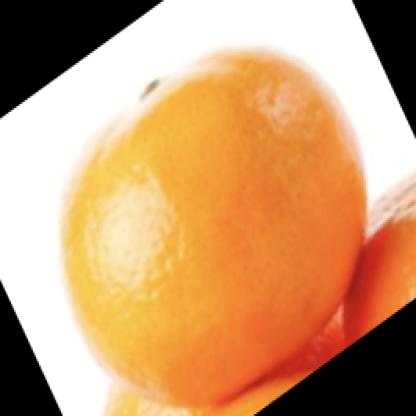fresh: (61, 50, 368, 398)
